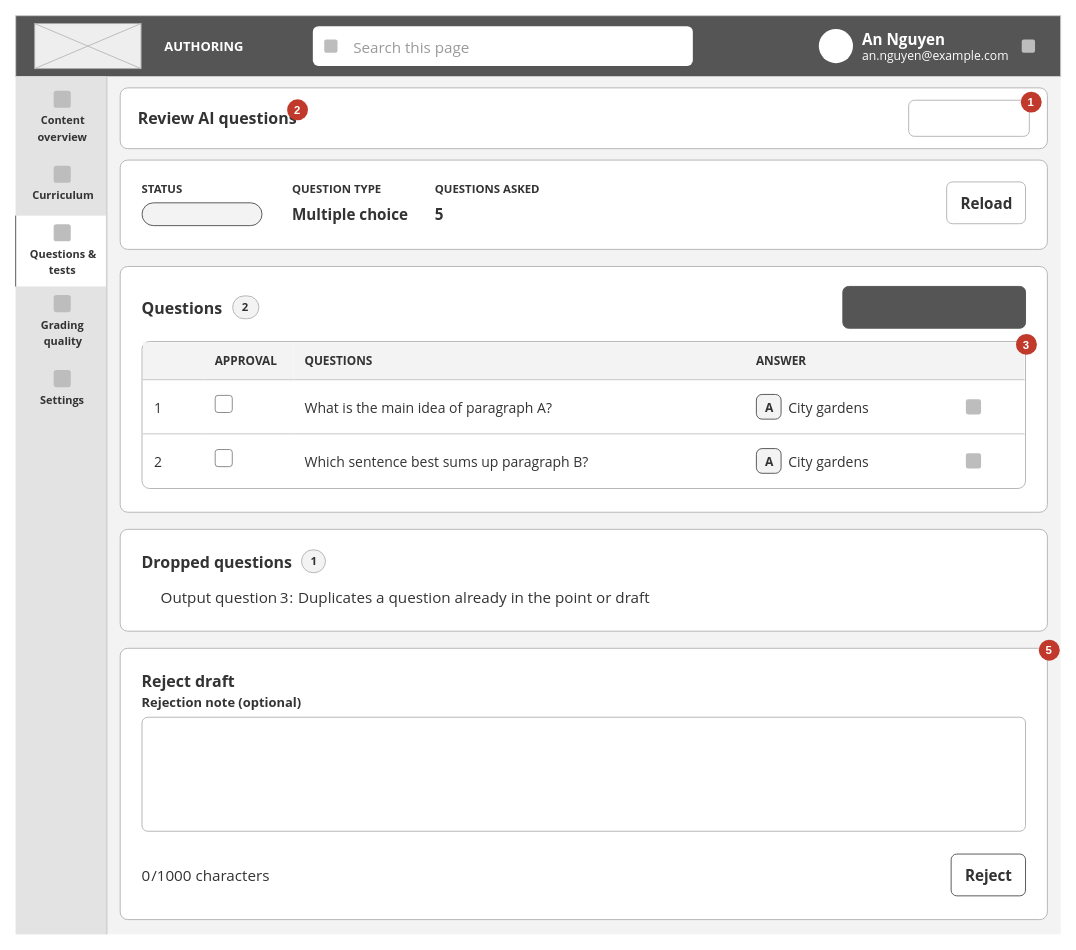
The diagram is 1076 pixels wide and 950 high, and some of its shapes have lost their labels. Here are the shapes that lost their labels. From the top down, the centre of each, then its label:
At point (835, 45): "AN".
At point (968, 117): "List of drafts".
At point (201, 214): "Waiting for review".
At point (934, 306): "Approve selected (0)".
At point (172, 360): "NO.".
At point (984, 360): "ACTIONS".
